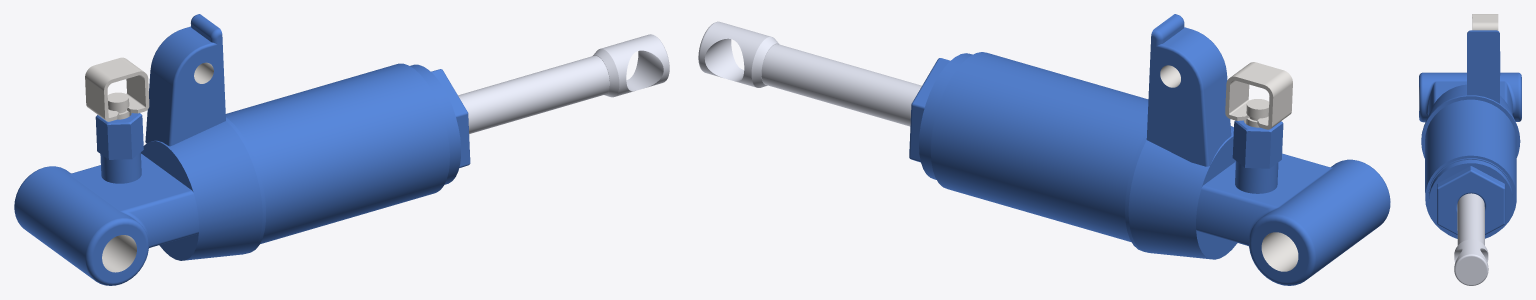
Rendered from ProjectStart.glb.
3 renders of one model, left to right at view 1: azimuth 30°, elevation 25°; view 2: azimuth 150°, elevation 25°; view 3: azimuth 270°, elevation 25°, orthographic. The views are drawn at different scales.
Visible parts, largest first — view 1: ProjectStart; view 2: ProjectStart; view 3: ProjectStart.
Boxes of the visible parts, left/top/right/bottom form: ProjectStart: left=14, top=14, right=669, bottom=285; ProjectStart: left=698, top=14, right=1390, bottom=285; ProjectStart: left=1419, top=14, right=1521, bottom=285.
Bounding box in the file's own units: 0.261 × 0.0913 × 0.056.
